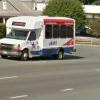Bus: (4, 14, 82, 60)
